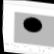correct: (20, 13, 45, 36)
